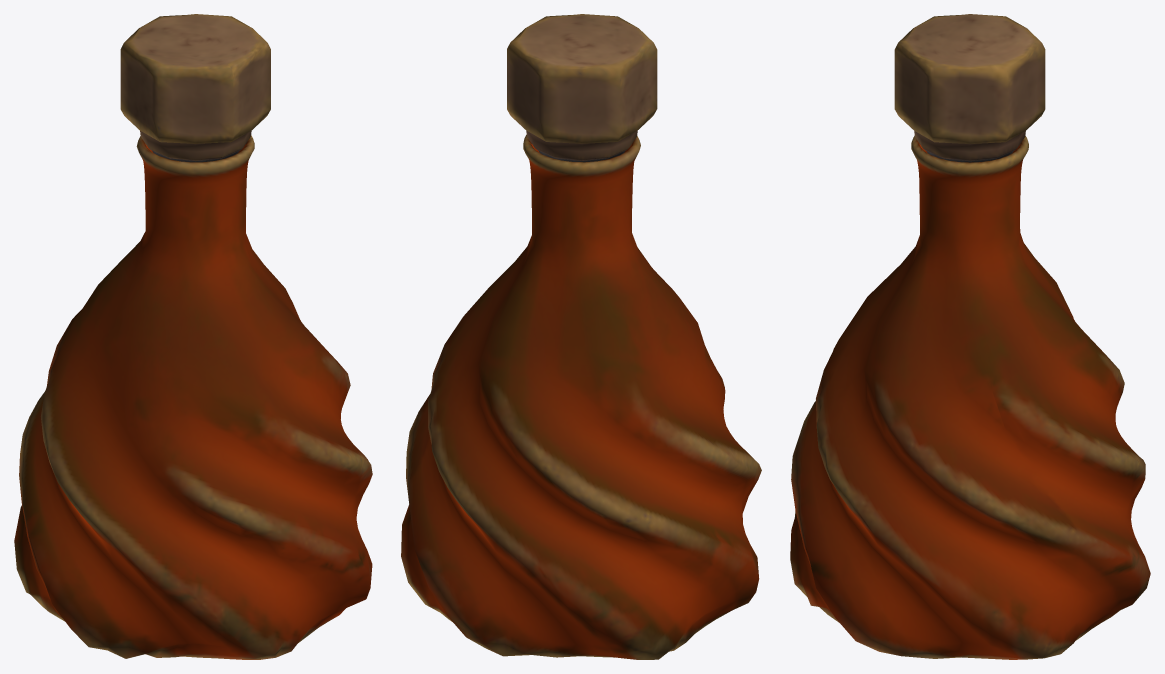
Rendered from SM_Bottle1.fbx.
3 views of the same model, side by side, from view 1: azimuth 30°, elevation 25°; view 2: azimuth 150°, elevation 25°; view 3: azimuth 270°, elevation 25° (orthographic).
Parts seen in each view (by area): view 1: SM_Bottle1_LOD0; view 2: SM_Bottle1_LOD0; view 3: SM_Bottle1_LOD0.
Part boxes in pixels (x1,y1,x2,y2): SM_Bottle1_LOD0: [14, 14, 372, 659]; SM_Bottle1_LOD0: [401, 14, 761, 659]; SM_Bottle1_LOD0: [790, 14, 1150, 659].
Bounding box in the file's own units: 15.65 × 15.03 × 25.7.
Materials: 1 (1 with a texture image).
